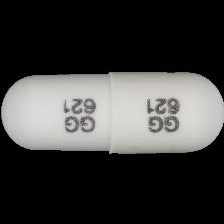54868-4803: (0, 0, 224, 224)
